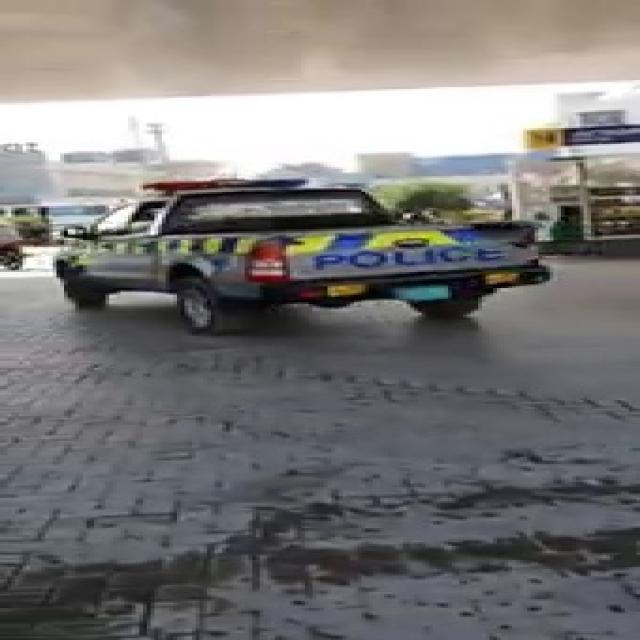police: (77, 169, 455, 324)
